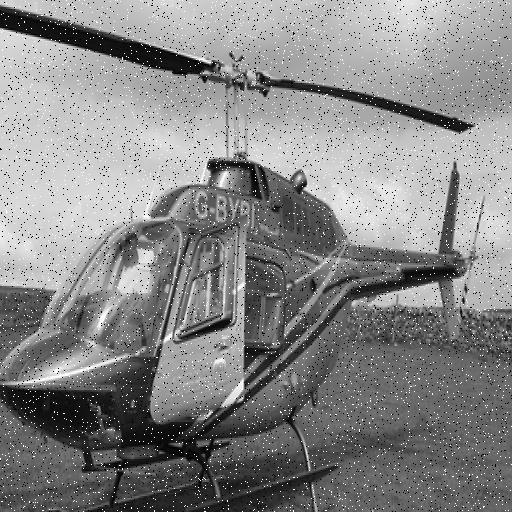helicopter: (1, 1, 488, 512)
